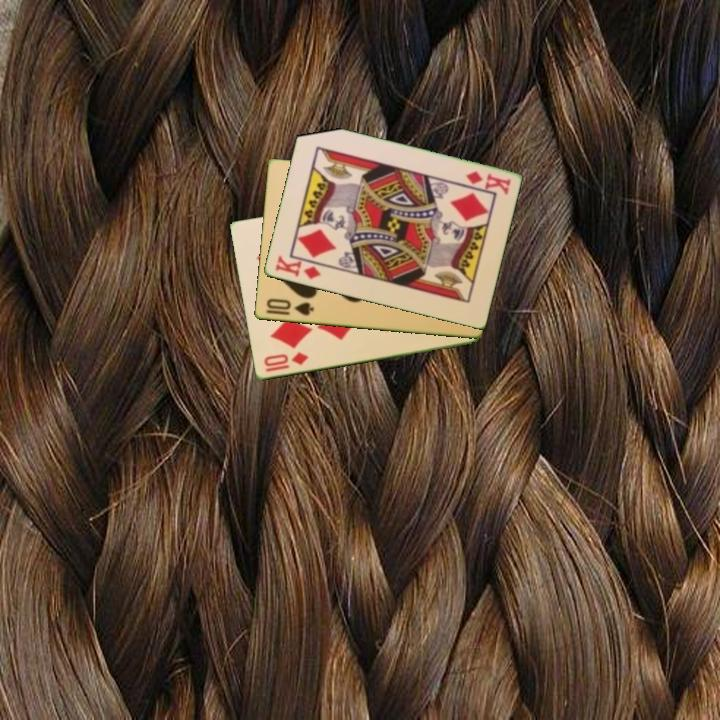10d: (260, 349, 311, 375)
10s: (263, 295, 317, 319)
Kd: (271, 252, 323, 282), (462, 168, 513, 197)
